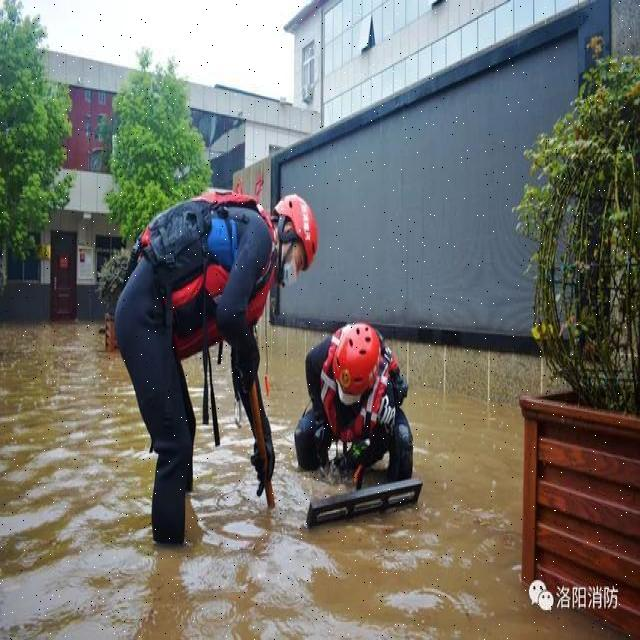rescuer: (109, 177, 320, 552), (289, 307, 426, 480)
